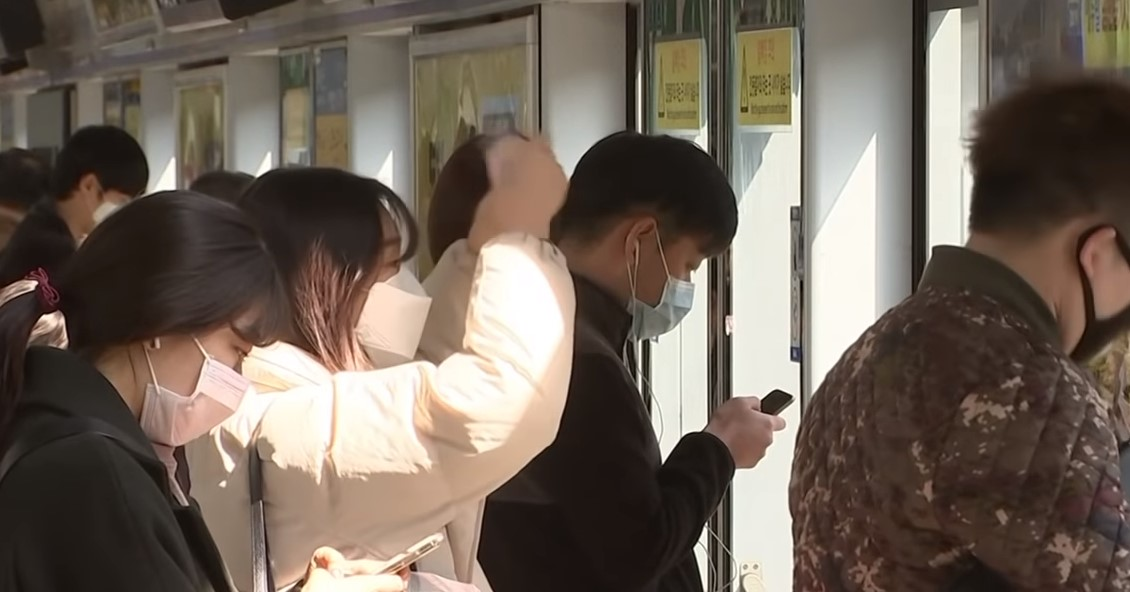face_with_mask: (69, 191, 275, 455), (970, 71, 1129, 369), (571, 134, 740, 345), (282, 170, 436, 374), (58, 125, 146, 232)
